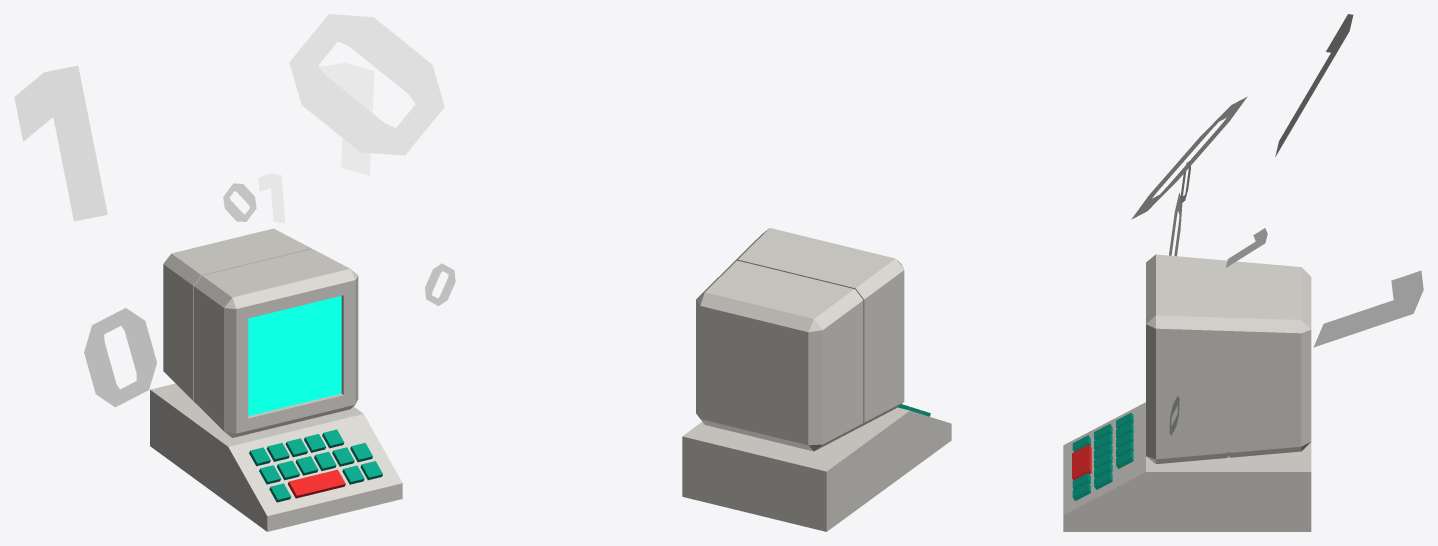
Rendered from Alesssandro_3D.glb.
3 renders of one model, left to right at view 1: azimuth 30°, elevation 25°; view 2: azimuth 150°, elevation 25°; view 3: azimuth 270°, elevation 25°, orthographic. The views are drawn at different scales.
Visible parts, largest first — view 1: Numbers, PC_monitor, PC_keyboard, PC_screen; view 2: PC_monitor, PC_keyboard; view 3: PC_monitor, PC_keyboard, Numbers.
Part boxes in pixels (bbox=[...]): Numbers: bbox=[14, 14, 455, 407]; PC_monitor: bbox=[163, 228, 358, 437]; PC_keyboard: bbox=[150, 383, 402, 531]; PC_screen: bbox=[248, 296, 341, 416]; PC_monitor: bbox=[696, 228, 904, 451]; PC_keyboard: bbox=[682, 404, 951, 531]; PC_monitor: bbox=[1146, 254, 1311, 464]; PC_keyboard: bbox=[1063, 402, 1311, 531]; Numbers: bbox=[1131, 14, 1423, 435].
Bounding box in the file's own units: 3.02 × 2.99 × 2.21.
